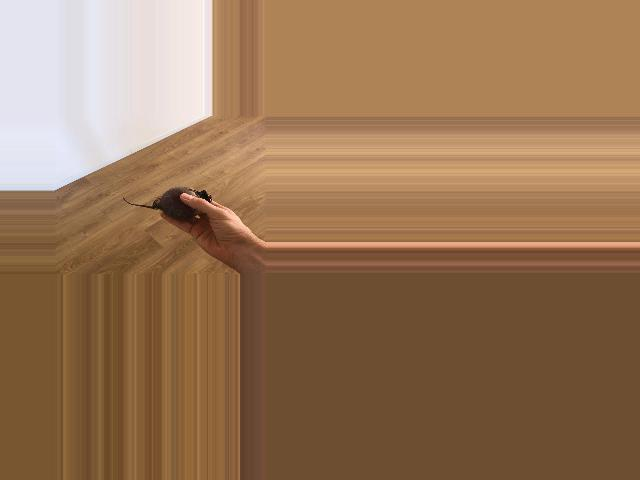beet: (122, 187, 211, 219)
